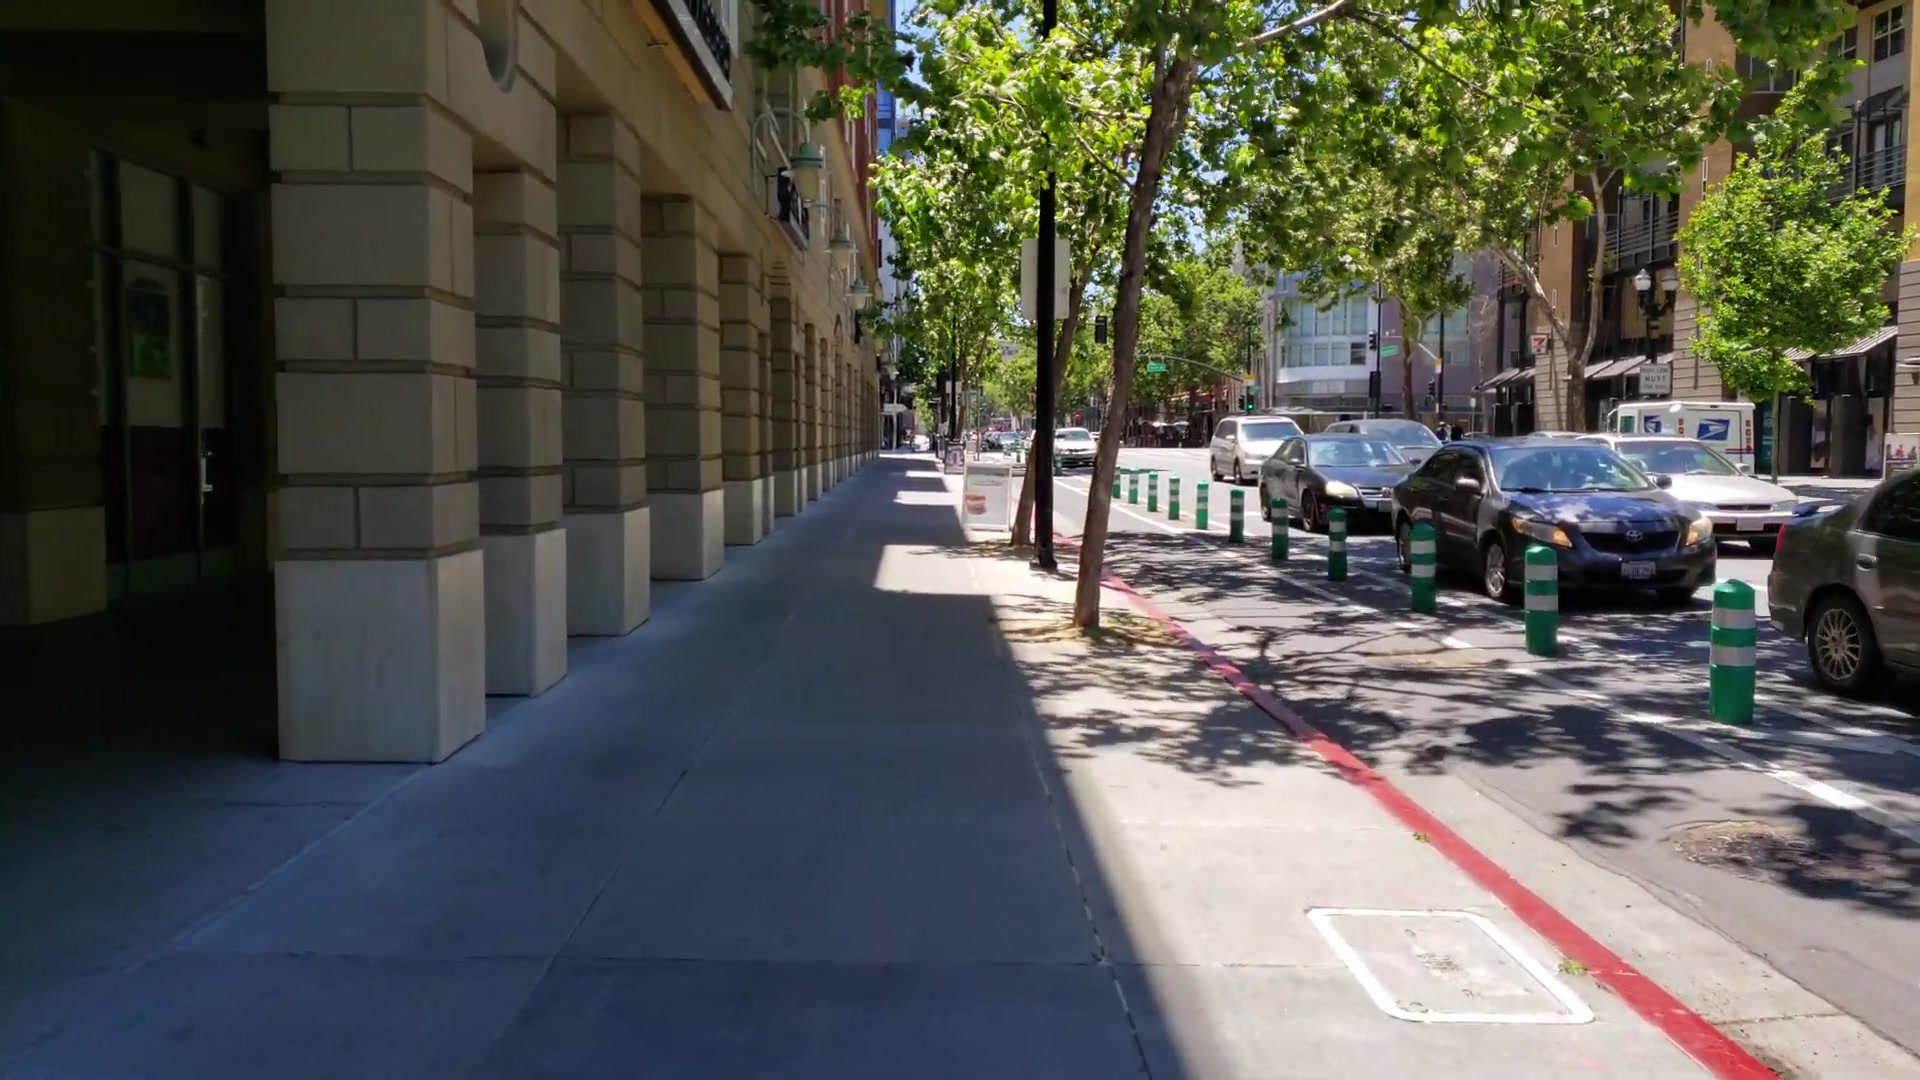vehicle: (1391, 436, 1716, 607), (1263, 435, 1424, 529)
